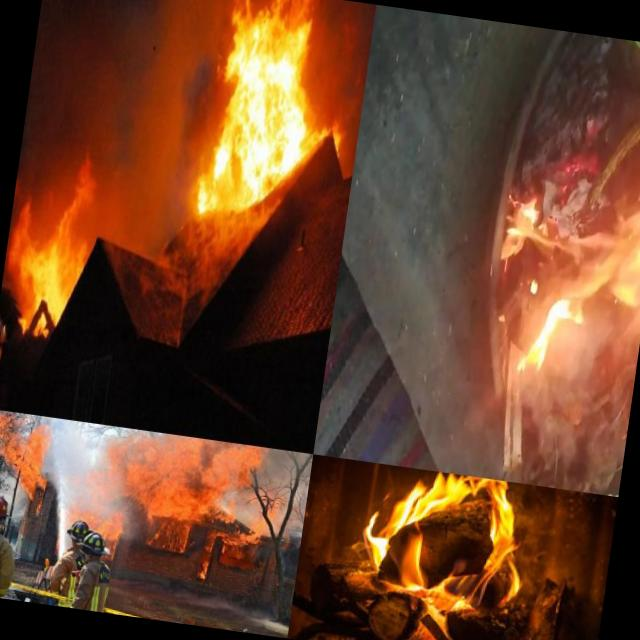fire: (338, 460, 550, 632), (1, 168, 104, 340), (97, 426, 260, 526), (230, 0, 294, 226), (217, 488, 287, 556), (0, 417, 52, 500), (140, 512, 197, 554), (90, 508, 124, 538), (199, 532, 217, 584)
smoke: (254, 447, 312, 501)
